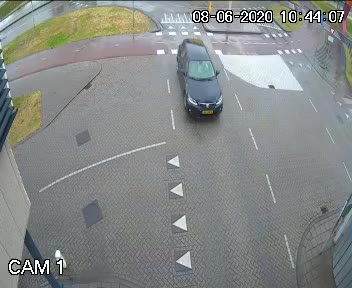car: (172, 36, 223, 136)
